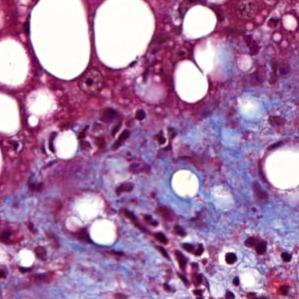steatosis: (27, 0, 92, 79), (181, 5, 220, 38)
